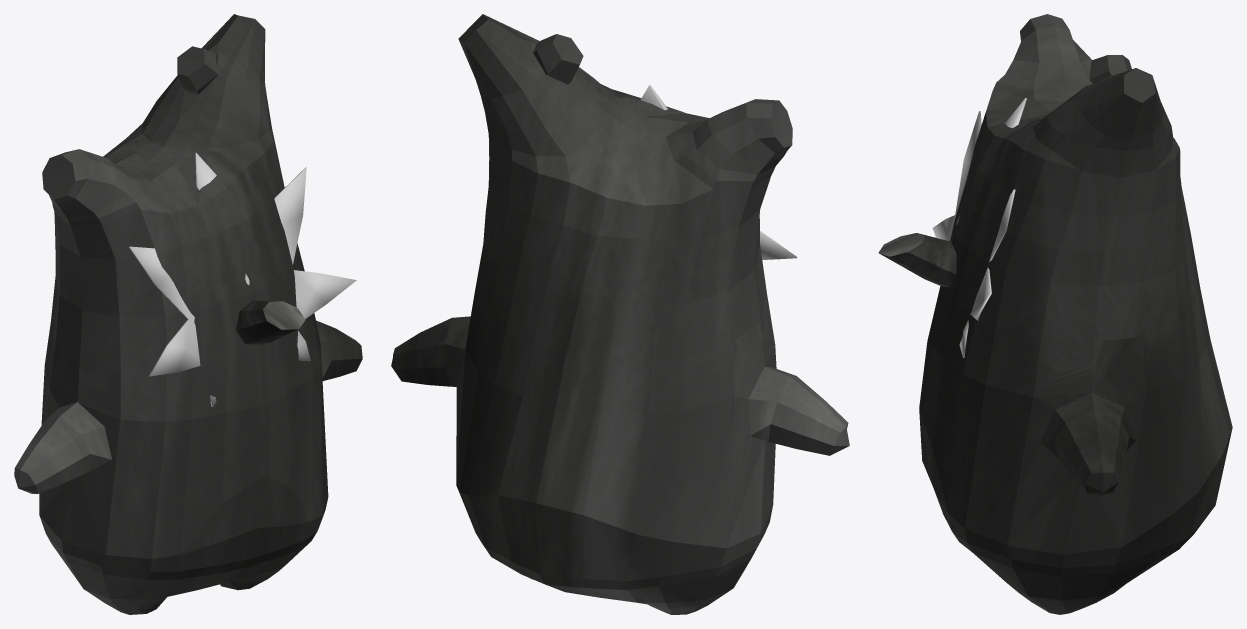
Rendered from frame_0027.obj.
3 renders of one model, left to right at view 1: azimuth 30°, elevation 25°; view 2: azimuth 150°, elevation 25°; view 3: azimuth 270°, elevation 25°, orthographic. The views are drawn at different scales.
Visible parts, largest first — view 1: korok, leaf, nose; view 2: korok, leaf; view 3: korok, nose, leaf.
Boxes of the visible parts, left/top/right/bottom form: korok: left=14, top=14, right=362, bottom=614; leaf: left=129, top=152, right=356, bottom=406; nose: left=235, top=300, right=305, bottom=344; korok: left=391, top=14, right=849, bottom=614; leaf: left=640, top=84, right=797, bottom=259; korok: left=919, top=14, right=1232, bottom=614; nose: left=878, top=233, right=956, bottom=287; leaf: left=932, top=98, right=1026, bottom=357.
Bounding box in the file's own units: 1.7 × 2.3 × 1.31.
